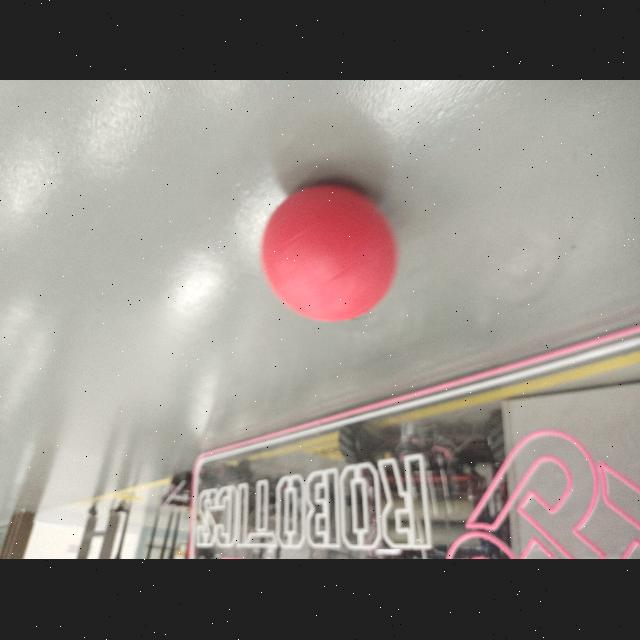R: (262, 184, 398, 324)
